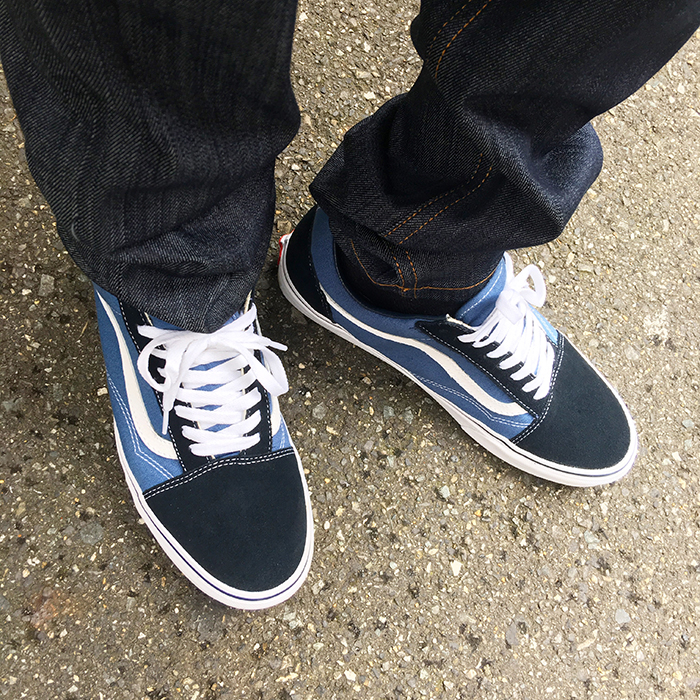Vans Old Skool Blue: (268, 179, 637, 514), (73, 231, 325, 616)
